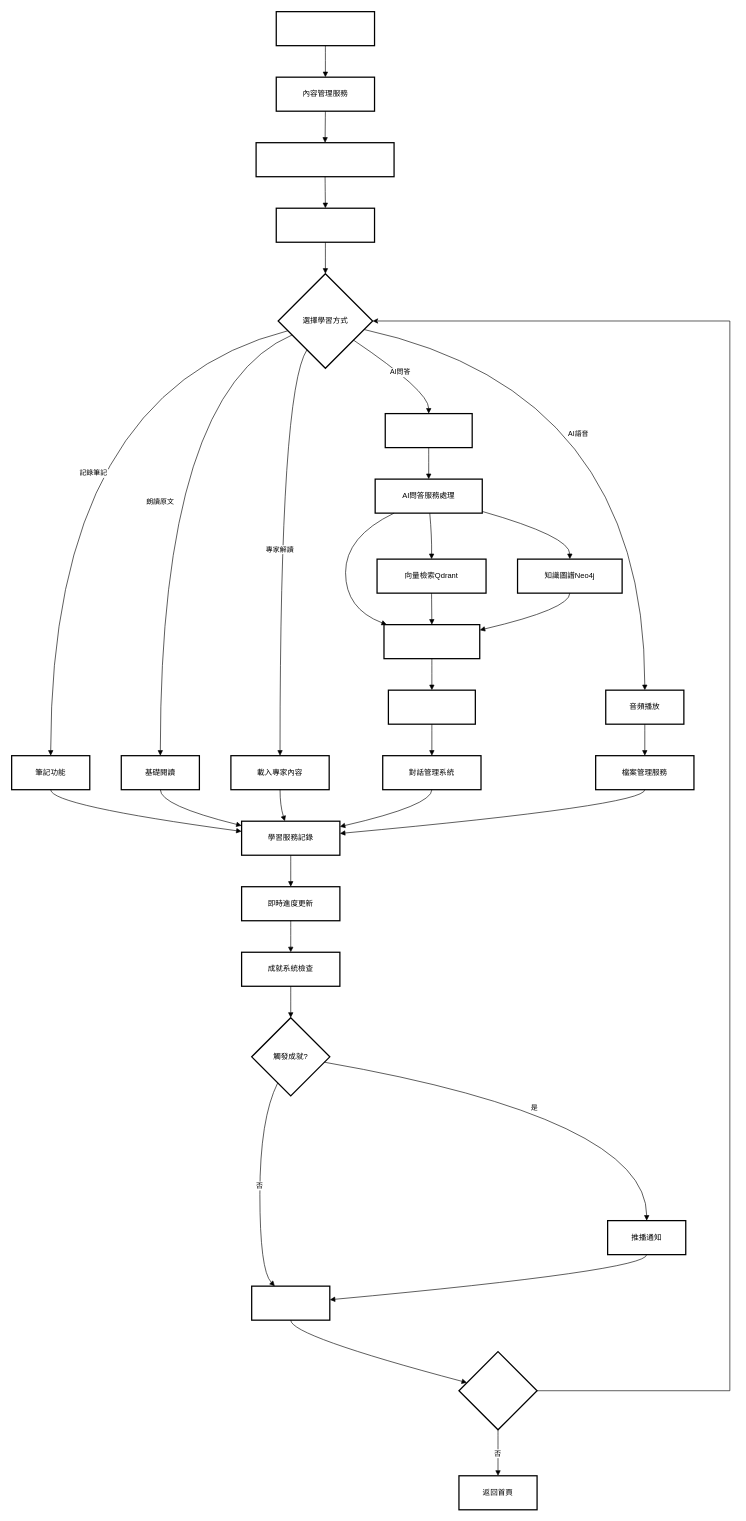
This 746x1521 diagram has some shape labels left out. The shapes that lost their labels are listed below. From the top down, each one's centre as x and y in pixels, then its label:
At point (325, 28): "進入閱讀功能".
At point (324, 159): "從PostgreSQL載入章節".
At point (325, 225): "顯示閱讀介面".
At point (428, 430): "AI問答流程".
At point (431, 641): "LLM整合處理".
At point (431, 706): "生成AI回答".
At point (290, 1302): "返回閱讀".
At point (497, 1390): "繼續閱讀?".
